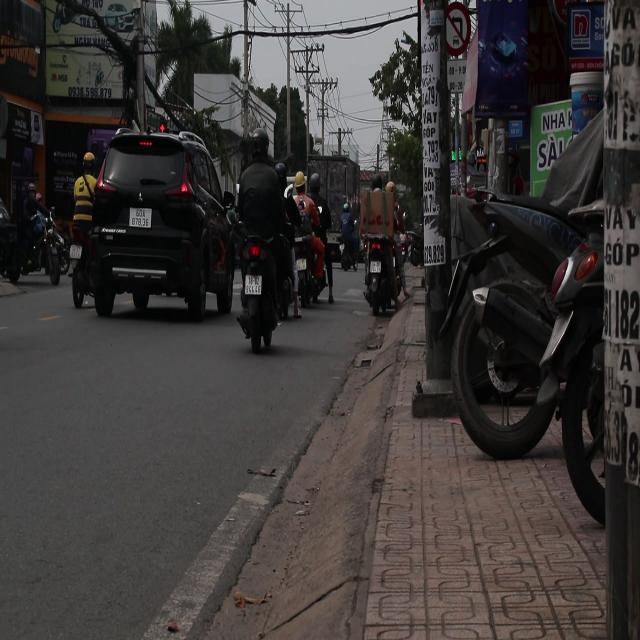car: (79, 136, 238, 320)
motorbike: (233, 214, 292, 358), (358, 225, 408, 325), (21, 194, 73, 285), (290, 226, 327, 322), (337, 212, 360, 272)
